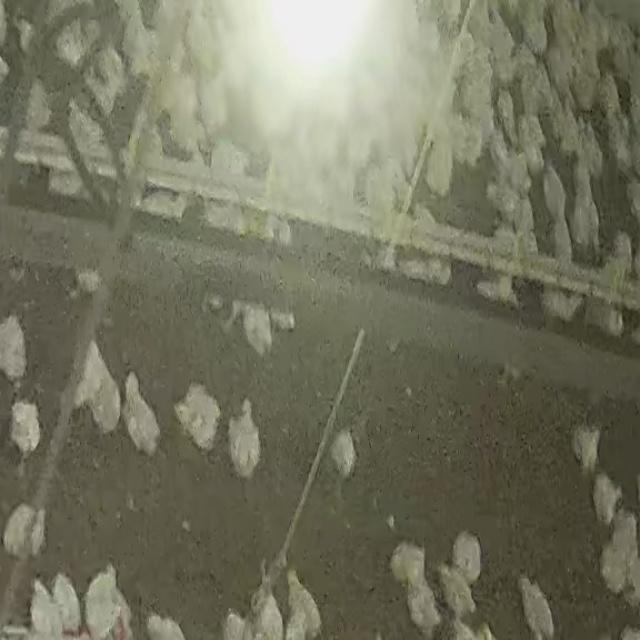chicken: (71, 337, 123, 436), (67, 98, 118, 181), (173, 382, 224, 454), (122, 371, 164, 458), (601, 507, 640, 597), (83, 564, 128, 639), (226, 397, 263, 476), (87, 42, 128, 113), (284, 569, 324, 639), (25, 574, 63, 640), (518, 575, 556, 639), (436, 563, 477, 621), (514, 108, 550, 174), (2, 502, 44, 558), (422, 131, 457, 197), (404, 578, 445, 634), (8, 399, 44, 459), (250, 582, 286, 640), (49, 574, 83, 635), (0, 313, 29, 383), (388, 541, 428, 589), (53, 22, 90, 69), (451, 530, 483, 584), (596, 73, 625, 130), (591, 473, 622, 525), (329, 428, 358, 481), (584, 297, 622, 337), (570, 426, 602, 473), (546, 289, 584, 323), (265, 212, 293, 247), (13, 15, 36, 56)
